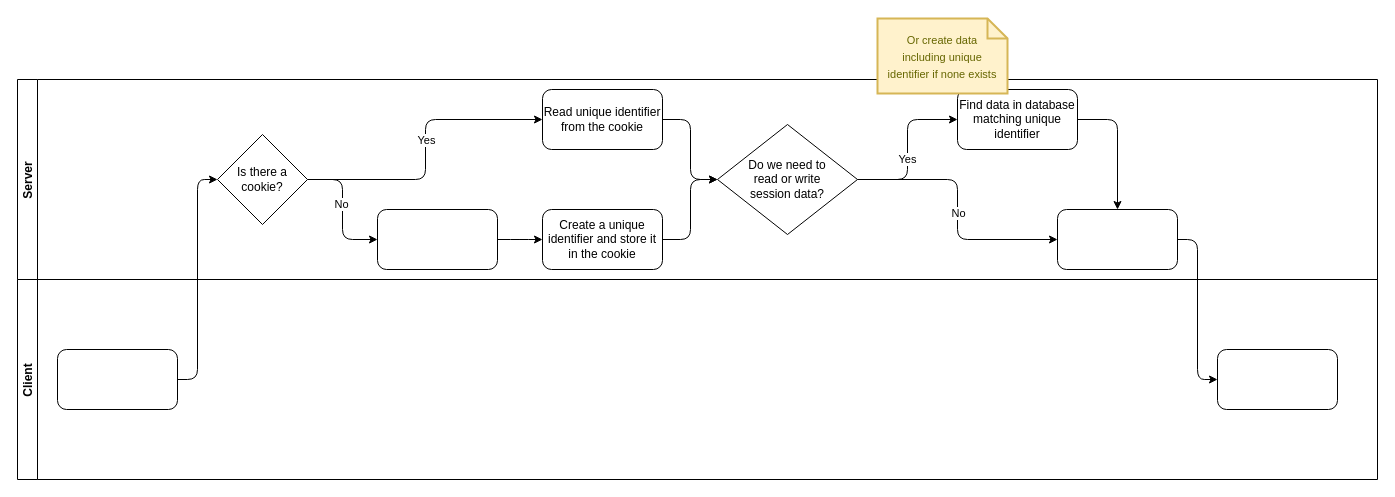
This 1395x497 diagram has some shape labels left out. The centre of each missing label's shape, as x and y in pixels:
Create a new cookie: point (437, 239)
Process request: point (1117, 239)
Receive response: point (1277, 379)
Send request: point (117, 379)
